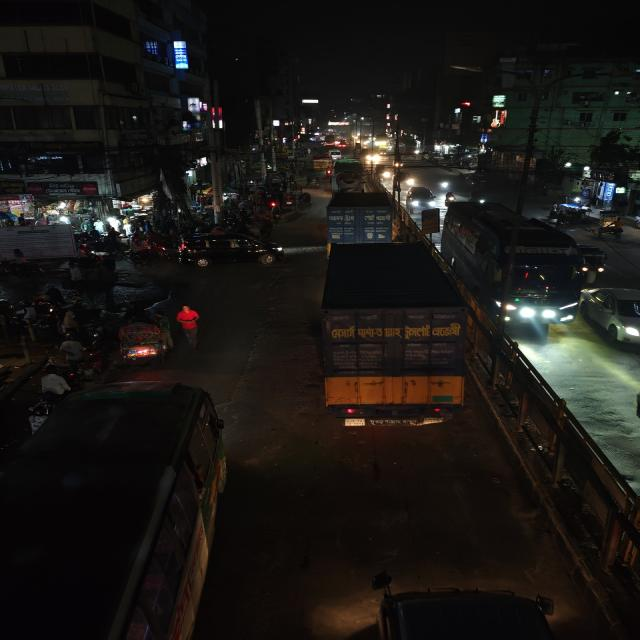bus: (0, 382, 228, 640), (444, 196, 586, 328)
car: (581, 284, 640, 354), (176, 229, 284, 267), (404, 185, 436, 208)
cng: (352, 583, 568, 640), (577, 243, 610, 280), (304, 176, 322, 191)
motorcycle: (443, 189, 458, 204)
pedestrian: (173, 303, 207, 352), (35, 369, 70, 405)
rickshaw: (112, 315, 174, 367), (590, 219, 626, 241), (293, 193, 316, 215)
truck: (313, 239, 470, 433), (364, 583, 569, 640), (322, 189, 401, 251)
